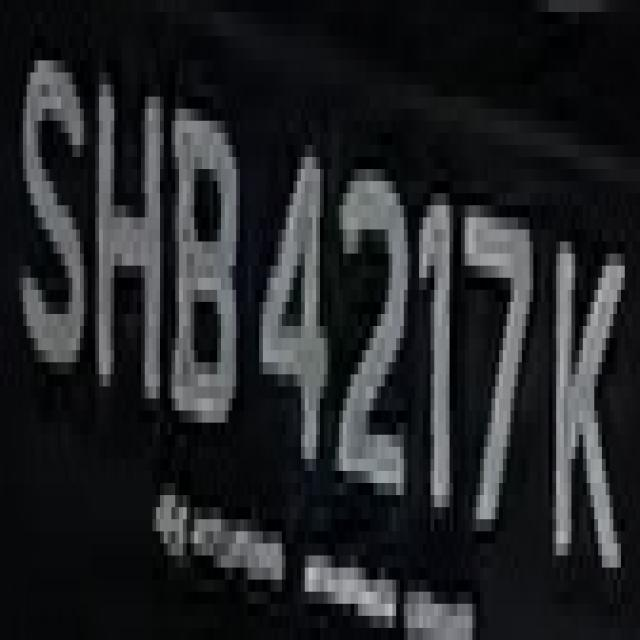1: (411, 145, 461, 555)
2: (339, 121, 411, 543)
4: (255, 109, 335, 483)
7: (457, 121, 537, 555)
B: (164, 72, 248, 447)
H: (95, 36, 160, 435)
K: (541, 193, 636, 640)
S: (8, 36, 88, 399)
